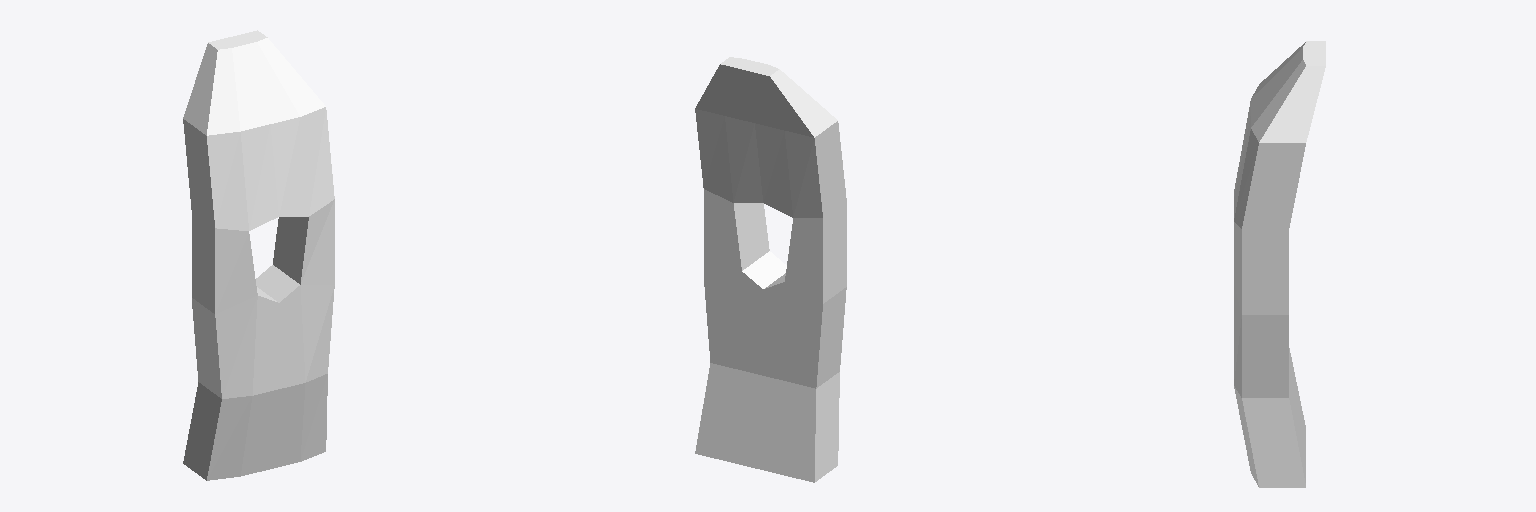
The model's file is RuinStructure.obj.
The picture shows the model from 3 angles: view 1: azimuth 30°, elevation 25°; view 2: azimuth 150°, elevation 25°; view 3: azimuth 270°, elevation 25°; orthographic projection.
Parts seen in each view (by area): view 1: Group2 Mesh; view 2: Group2 Mesh; view 3: Group2 Mesh.
Part boxes in pixels (x1,y1,x2,y2): Group2 Mesh: (183, 30, 334, 480); Group2 Mesh: (695, 57, 846, 482); Group2 Mesh: (1234, 41, 1325, 487).
Size of the model in its own units: 0.6173 by 2 by 0.4131.